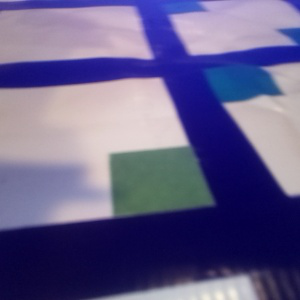bottom_right: (174, 55, 283, 102), (138, 1, 205, 13)
top_left: (109, 145, 253, 272), (278, 27, 300, 61)
